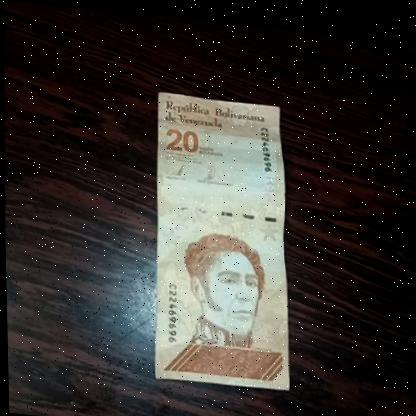twenty-front-vef: (147, 87, 296, 388)
